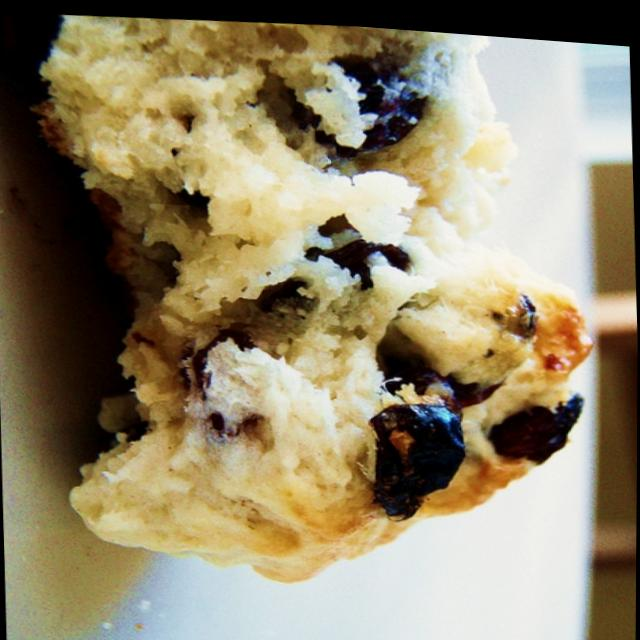面包点心: (14, 1, 621, 640)
